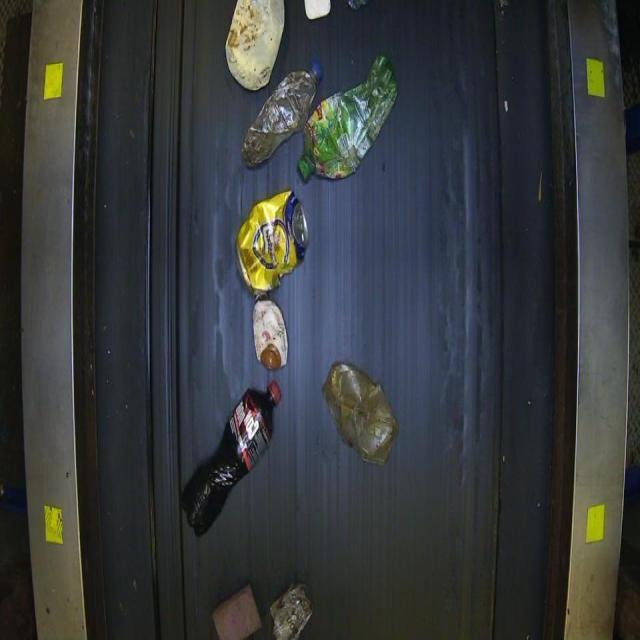cups: (180, 379, 282, 536), (240, 58, 322, 168), (321, 361, 398, 465), (235, 188, 308, 296)
